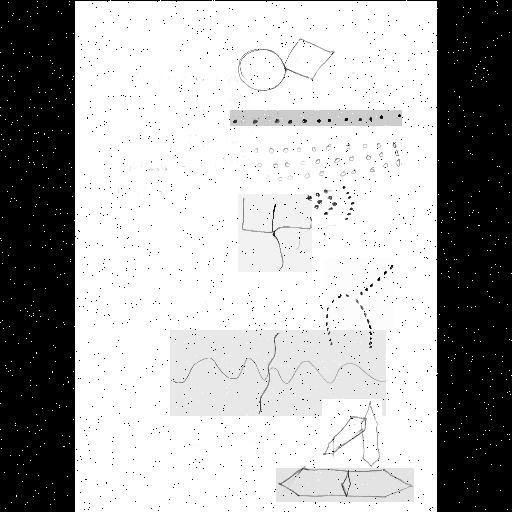shape-1: (238, 34, 332, 92)
shape-2: (230, 110, 402, 126)
shape-3: (254, 136, 402, 184)
shape-4: (300, 180, 358, 224)
shape-5: (238, 194, 312, 272)
shape-6: (324, 258, 394, 350)
shape-7: (170, 330, 386, 416)
shape-8: (322, 399, 382, 469)
shape-9: (276, 468, 414, 502)
